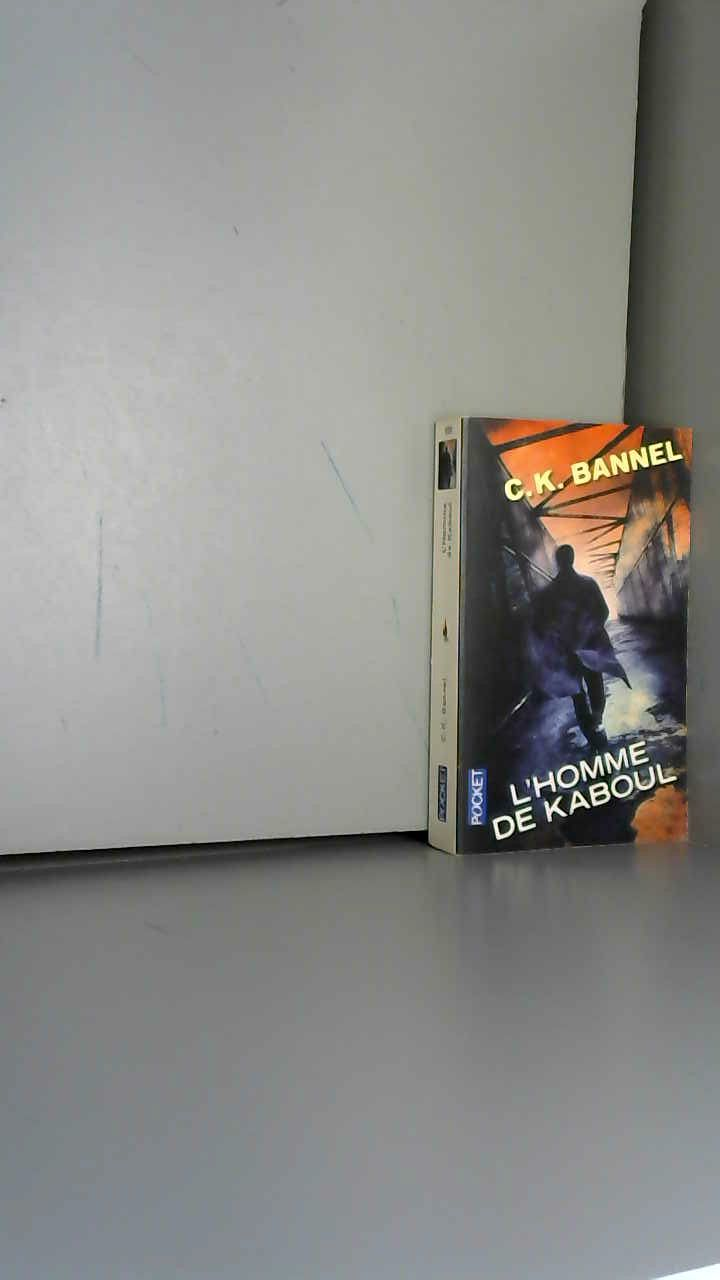book: (430, 390, 720, 906)
